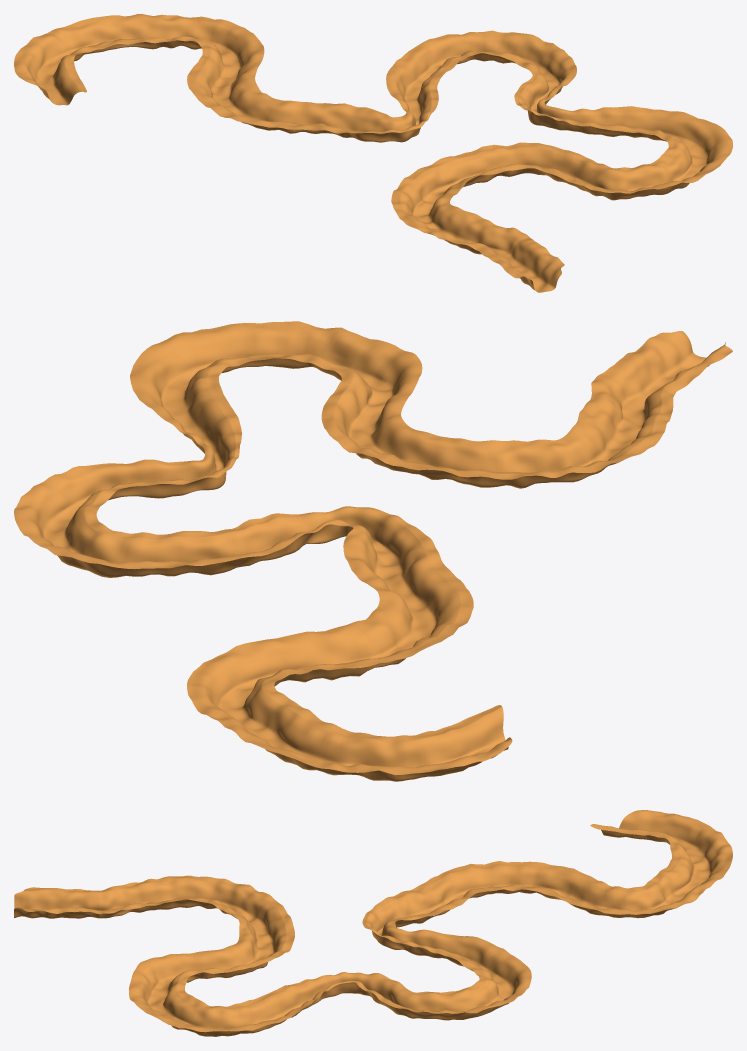
Rendered from trench02.glb.
3 views of the same model, one above another, from view 1: azimuth 30°, elevation 25°; view 2: azimuth 150°, elevation 25°; view 3: azimuth 270°, elevation 25° (orthographic). The views are drawn at different scales.
Parts seen in each view (by area): view 1: trench2-col; view 2: trench2-col; view 3: trench2-col.
Part boxes in pixels (x1,y1,x2,y2): trench2-col: (14,14,732,292); trench2-col: (14,321,732,781); trench2-col: (14,810,732,1036).
Size of the model in its own units: 4164 by 168 by 5723.
